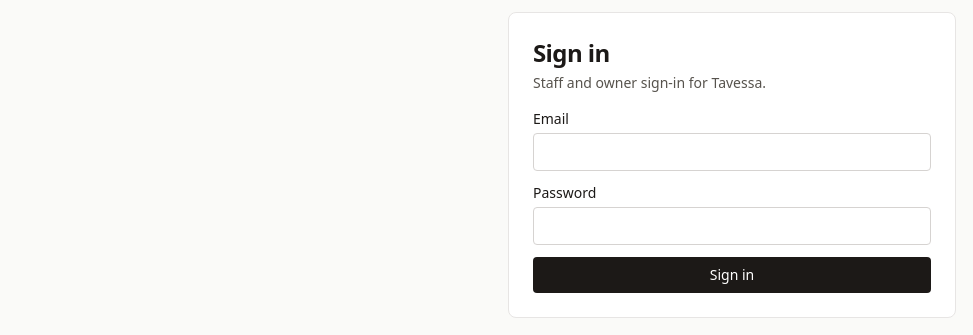
LoginPage (Stage 7) › signs an owner in and redirects to /admin
The image size is (973, 335).
Type "owner@zaika.example" into the field labelled "Email".
click(732, 152); type("owner@zaika.example")  # box [533,133,931,171]
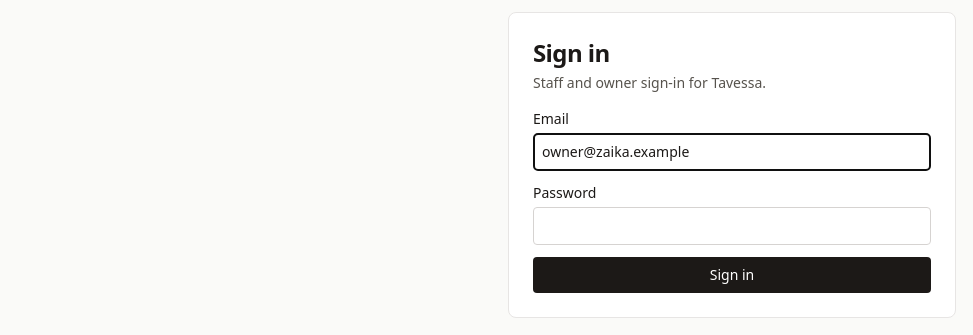
Type "correct horse battery" into the password field labelled "Password".
click(732, 226); type("correct horse battery")  # box [533,207,931,245]
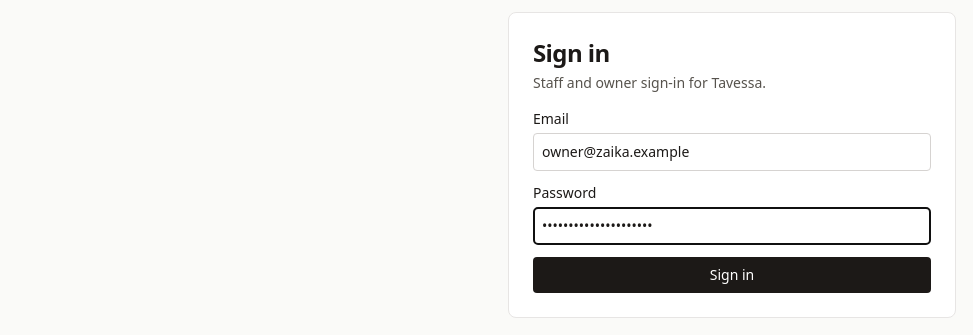
Click the button "Sign in".
click(732, 275)  # box [533,257,931,293]
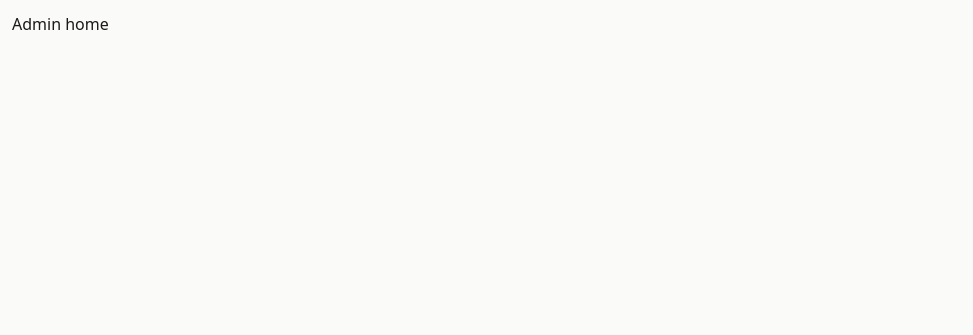
Now the text "Admin home" is shown, box [12,13,109,35]
